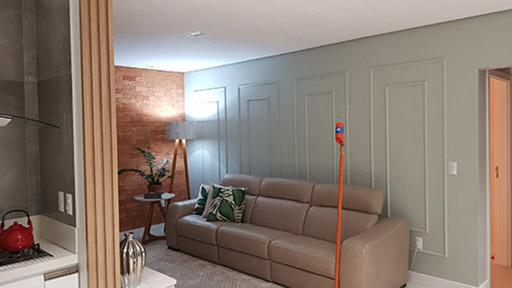Detector_Tensao_Contato: (334, 112, 346, 149)
Vara_Manobra: (333, 146, 346, 288)
